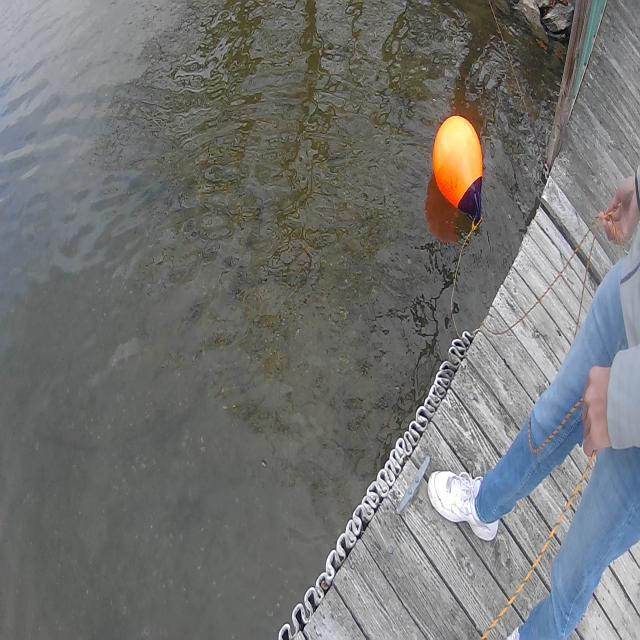Buoy: (427, 99, 490, 236)
